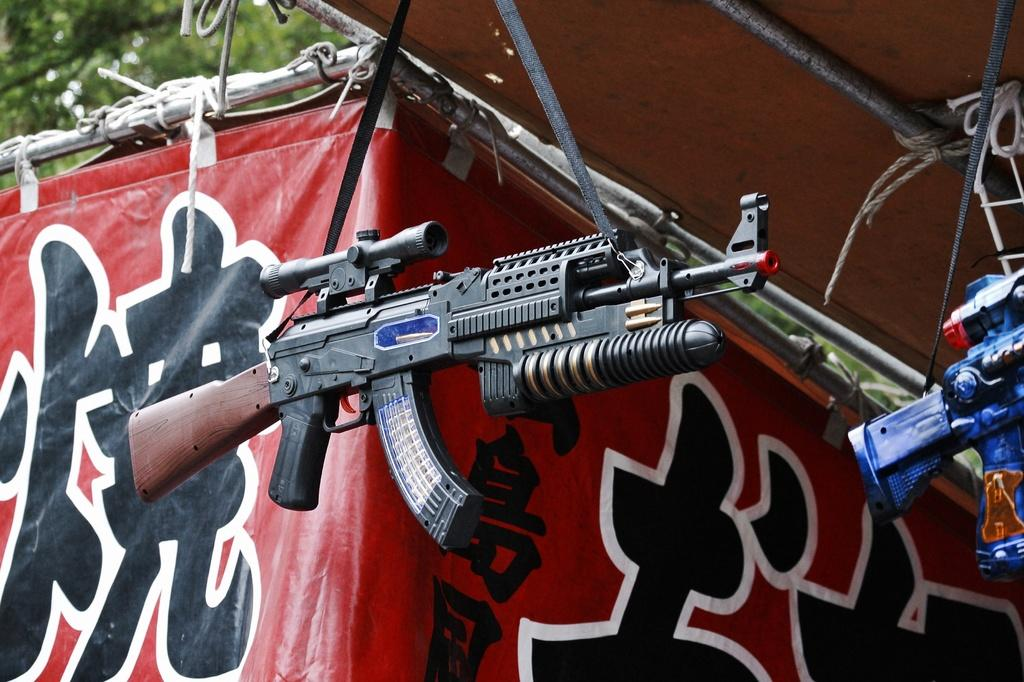Rifle: (130, 194, 774, 548)
